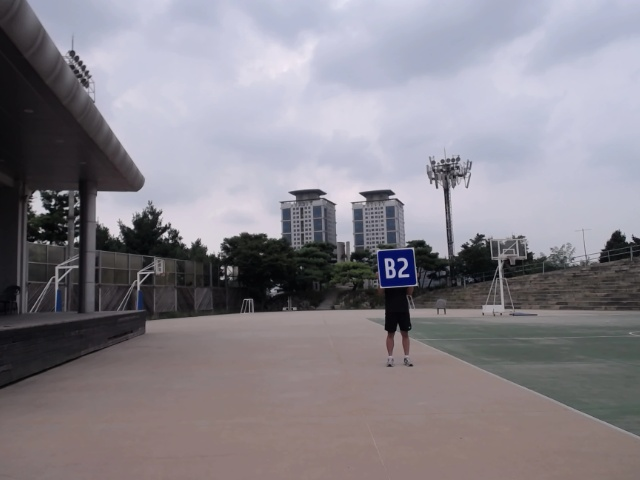delivery_b2: (376, 247, 419, 289)
